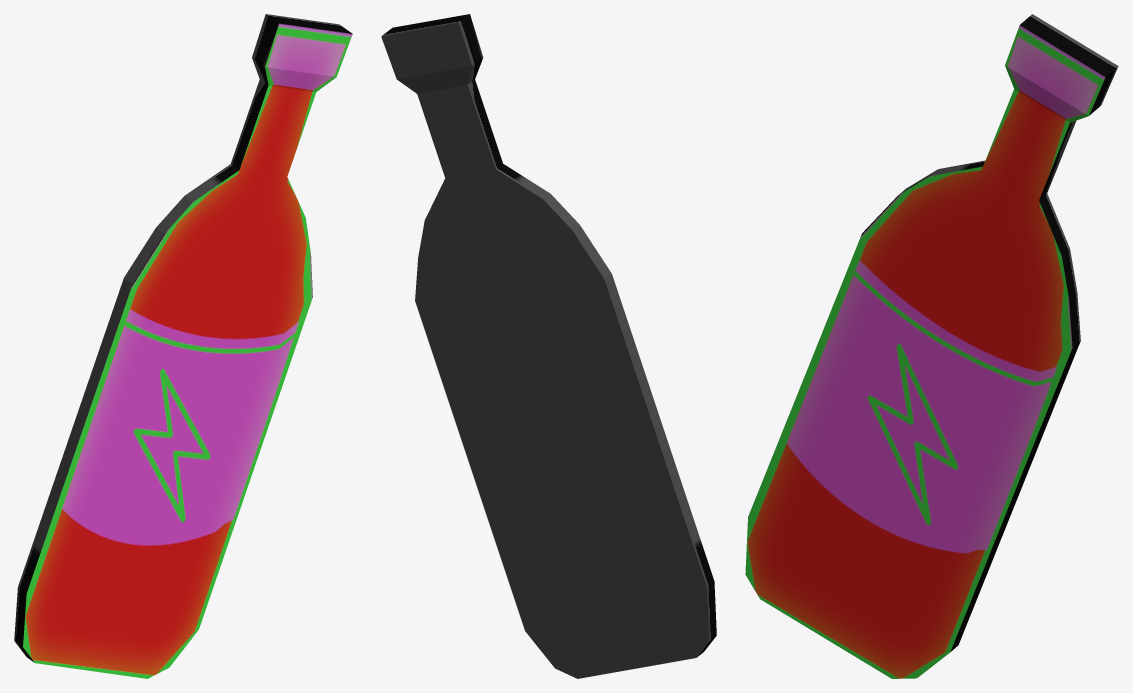
Rendered from placaFlutuanteG.obj.
The picture shows the model from 3 angles, left to right: view 1: azimuth 30°, elevation 25°; view 2: azimuth 150°, elevation 25°; view 3: azimuth 330°, elevation 25°; orthographic projection. The views are drawn at different scales.
Visible parts, largest first — view 1: Cube.005_Cube.008; view 2: Cube.005_Cube.008; view 3: Cube.005_Cube.008.
Part boxes in pixels (x1=…): Cube.005_Cube.008: x1=14, y1=14, x2=352, y2=678; Cube.005_Cube.008: x1=381, y1=14, x2=716, y2=678; Cube.005_Cube.008: x1=745, y1=14, x2=1118, y2=678.
Bounding box in the file's own units: 18.31 × 33.53 × 1.6.
